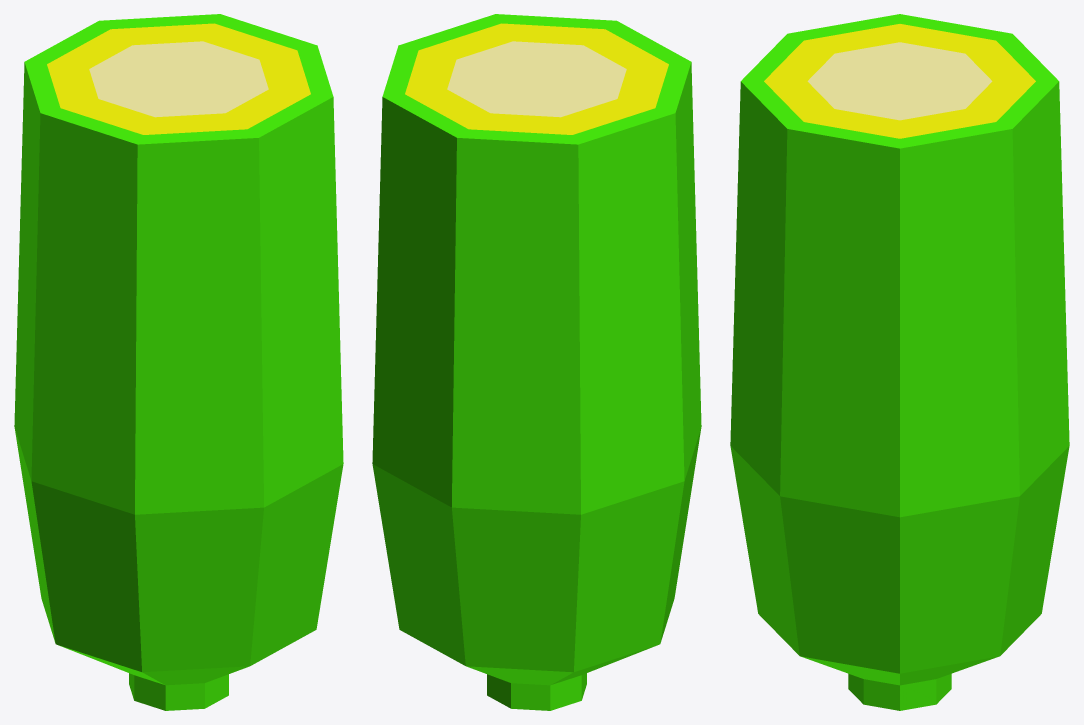
Rendered from corn02.gltf.
The picture shows the model from 3 angles, left to right: view 1: azimuth 30°, elevation 25°; view 2: azimuth 150°, elevation 25°; view 3: azimuth 270°, elevation 25°; orthographic projection.
Visible parts, largest first — view 1: Cylinder; view 2: Cylinder; view 3: Cylinder.
Boxes of the visible parts, x1,y1,x2,y2 form: Cylinder: (14, 14, 343, 710); Cylinder: (372, 14, 701, 710); Cylinder: (730, 14, 1069, 710).
Bounding box in the file's own units: 0.0729 × 0.1442 × 0.0729.
1 material, 1 textured.
